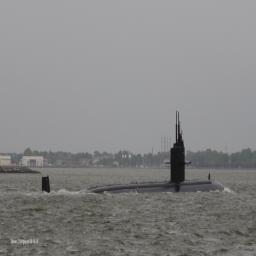submarine: (43, 112, 225, 196)
